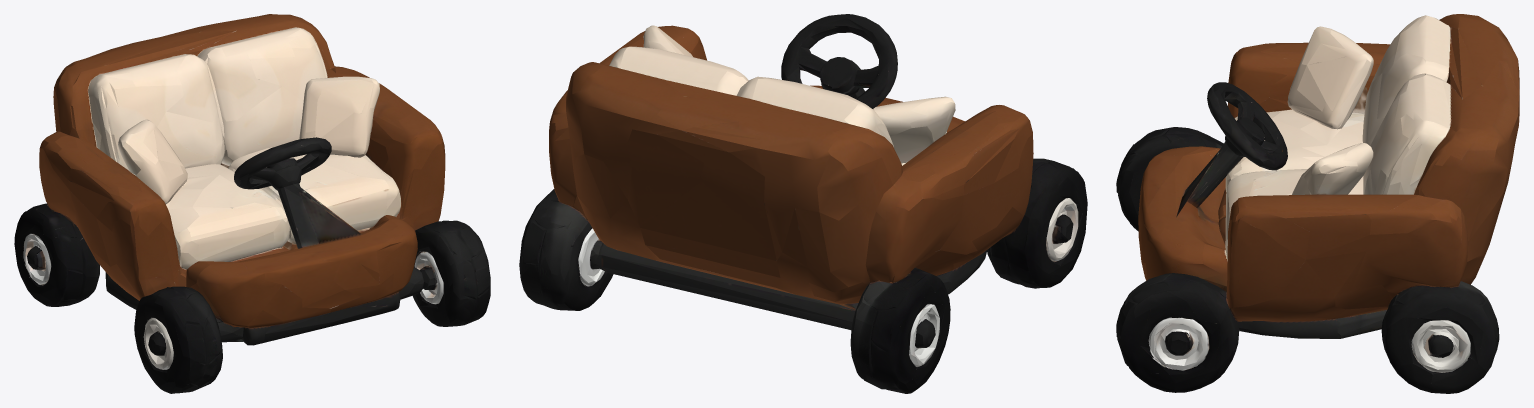
The model's file is couch_cruiser.glb.
3 renders of one model, left to right at view 1: azimuth 30°, elevation 25°; view 2: azimuth 150°, elevation 25°; view 3: azimuth 270°, elevation 25°, orthographic. The views are drawn at different scales.
Size of the model in its own units: 1.9 by 1.22 by 1.82.
Materials: 1 (1 with a texture image).
